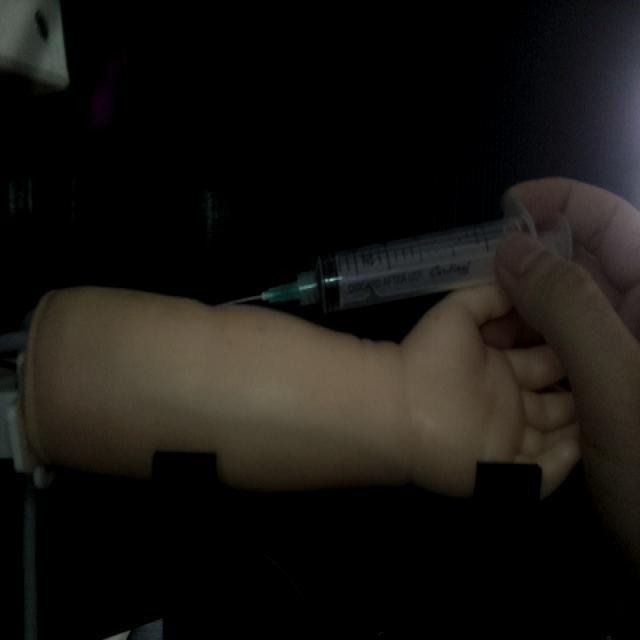Below 15 degrees: (218, 198, 569, 318)
